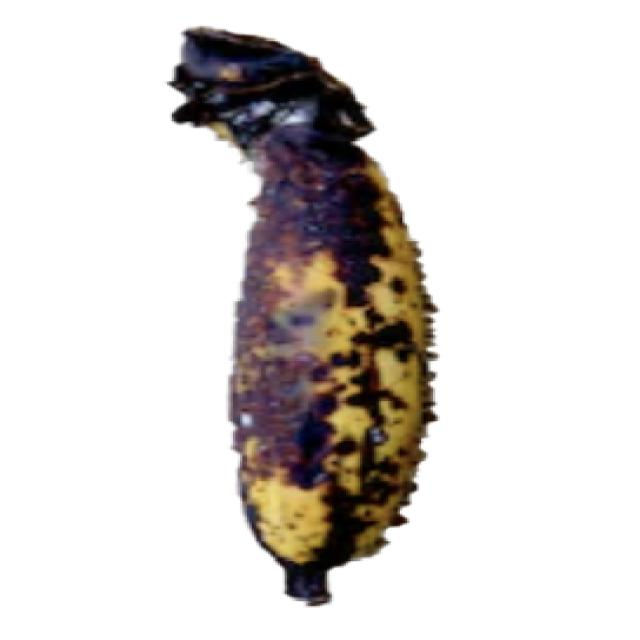rotten-banana: (165, 25, 440, 606)
